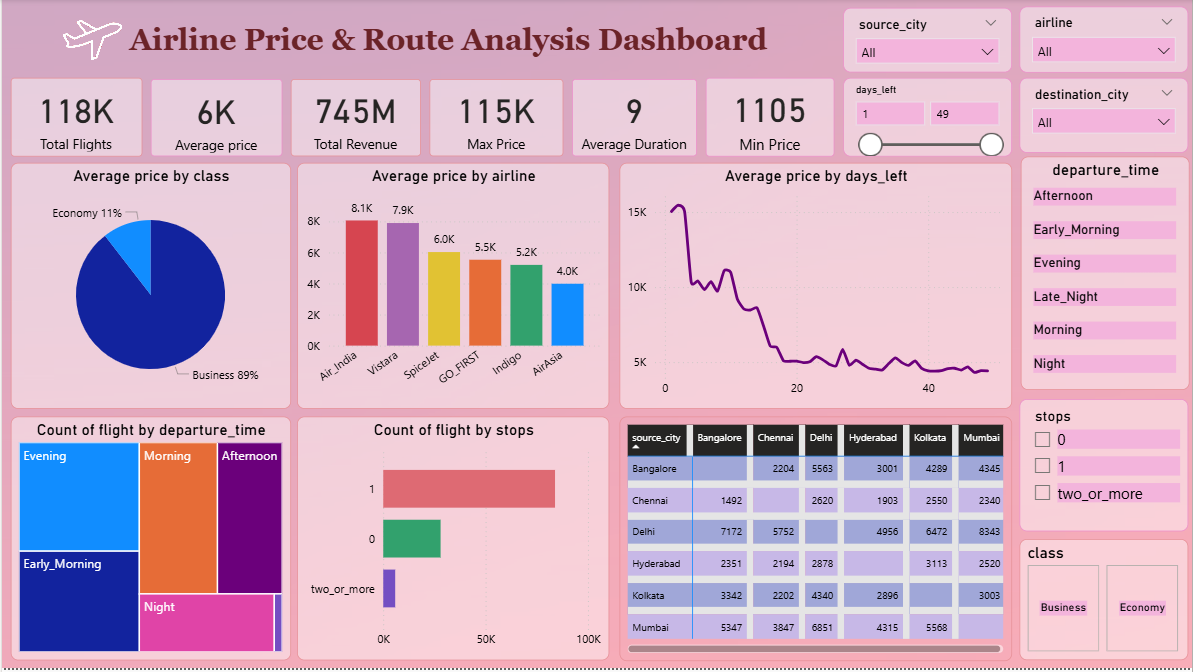

What the dashboard file says about the page in this screenshot:
{"tool":"powerbi","page":{"name":"Page 1","canvas":[1280,720],"ordinal":0},"visuals":[{"type":"card","fields":{"Values":["airlines_flights_data.Total Flights"]},"box":[9.4,84.7,141.2,84.7],"z":0},{"type":"card","fields":{"Values":["airlines_flights_data.Average price"]},"box":[160,86.1,141.2,83.4],"z":1000},{"type":"card","fields":{"Values":["airlines_flights_data.Average Duration"]},"box":[613.2,86.1,134.5,83.4],"z":2000},{"type":"card","fields":{"Values":["airlines_flights_data.Total Revenue"]},"box":[310.7,86.1,139.9,83.4],"z":3000},{"type":"lineChart","fields":{"Category":["airlines_flights_data.days_left"],"Y":["airlines_flights_data.Average price"]},"box":[664.3,176.2,422.3,264.9],"z":4000},{"type":"pivotTable","fields":{"Rows":["airlines_flights_data.source_city"],"Columns":["airlines_flights_data.destination_city"],"Values":["CountNonNull(airlines_flights_data.flight)"]},"box":[664.3,449.2,422.3,263.6],"z":5000},{"type":"barChart","fields":{"Category":["airlines_flights_data.stops"],"Y":["CountNonNull(airlines_flights_data.flight)"]},"box":[317.4,449.2,336.2,262.2],"z":6000},{"type":"card","fields":{"Values":["airlines_flights_data.Max Price"]},"box":[459.9,86.1,143.9,83.4],"z":7000},{"type":"card","fields":{"Values":["airlines_flights_data.Min Price"]},"box":[757.1,84.7,138.5,84.7],"z":8000},{"type":"textbox","box":[123.7,20.2,712.8,47.1],"z":9000},{"type":"columnChart","fields":{"Category":["airlines_flights_data.airline"],"Y":["airlines_flights_data.Average price"]},"box":[317.4,176.2,336.2,264.9],"z":10000},{"type":"pieChart","fields":{"Category":["airlines_flights_data.class"],"Y":["airlines_flights_data.Average price"]},"box":[9.4,176.2,301.2,264.9],"z":11000},{"type":"treemap","fields":{"Group":["airlines_flights_data.departure_time"],"Values":["CountNonNull(airlines_flights_data.flight)"]},"box":[9.4,449.2,301.2,262.2],"z":12000},{"type":"slicer","fields":{"Values":["airlines_flights_data.airline"]},"box":[1094.7,8.1,181.6,71.3],"z":13000},{"type":"advancedSlicerVisual","fields":{"Values":["airlines_flights_data.class"]},"box":[1094.7,581,181.6,130.4],"z":14000},{"type":"slicer","fields":{"Values":["airlines_flights_data.stops"]},"box":[1094.7,430.3,181.6,142.6],"z":15000},{"type":"slicer","fields":{"Values":["airlines_flights_data.source_city"]},"box":[905.1,9.4,181.6,69.9],"z":16000},{"type":"slicer","fields":{"Values":["airlines_flights_data.destination_city"]},"box":[1094.7,84.7,181.6,80.7],"z":17000},{"type":"slicer","fields":{"Values":["airlines_flights_data.days_left"]},"box":[905.1,84.7,181.6,84.7],"z":18000},{"type":"advancedSlicerVisual","fields":{"Values":["airlines_flights_data.departure_time"]},"box":[1096,169.4,181.6,251.5],"z":19000},{"type":"image","box":[44.4,9.4,106.2,69.9],"z":20000}]}

Visuals, with their boxes in screenshot pixels (x1, y1, x2, y2), scaled from the page's 1280x720 canvas onto the 1193x672 screenshot:
card - airlines_flights_data.Total Flights: bbox(9, 79, 140, 158)
card - airlines_flights_data.Average price: bbox(149, 80, 281, 158)
card - airlines_flights_data.Average Duration: bbox(572, 80, 697, 158)
card - airlines_flights_data.Total Revenue: bbox(290, 80, 420, 158)
lineChart - airlines_flights_data.days_left x airlines_flights_data.Average price: bbox(619, 164, 1013, 412)
pivotTable - airlines_flights_data.source_city x airlines_flights_data.destination_city: bbox(619, 419, 1013, 665)
barChart - airlines_flights_data.stops x CountNonNull(airlines_flights_data.flight): bbox(296, 419, 609, 664)
card - airlines_flights_data.Max Price: bbox(429, 80, 563, 158)
card - airlines_flights_data.Min Price: bbox(706, 79, 835, 158)
textbox: bbox(115, 19, 780, 63)
columnChart - airlines_flights_data.airline x airlines_flights_data.Average price: bbox(296, 164, 609, 412)
pieChart - airlines_flights_data.class x airlines_flights_data.Average price: bbox(9, 164, 289, 412)
treemap - airlines_flights_data.departure_time x CountNonNull(airlines_flights_data.flight): bbox(9, 419, 289, 664)
slicer - airlines_flights_data.airline: bbox(1020, 8, 1190, 74)
advancedSlicerVisual - airlines_flights_data.class: bbox(1020, 542, 1190, 664)
slicer - airlines_flights_data.stops: bbox(1020, 402, 1190, 535)
slicer - airlines_flights_data.source_city: bbox(844, 9, 1013, 74)
slicer - airlines_flights_data.destination_city: bbox(1020, 79, 1190, 154)
slicer - airlines_flights_data.days_left: bbox(844, 79, 1013, 158)
advancedSlicerVisual - airlines_flights_data.departure_time: bbox(1022, 158, 1191, 393)
image: bbox(41, 9, 140, 74)
